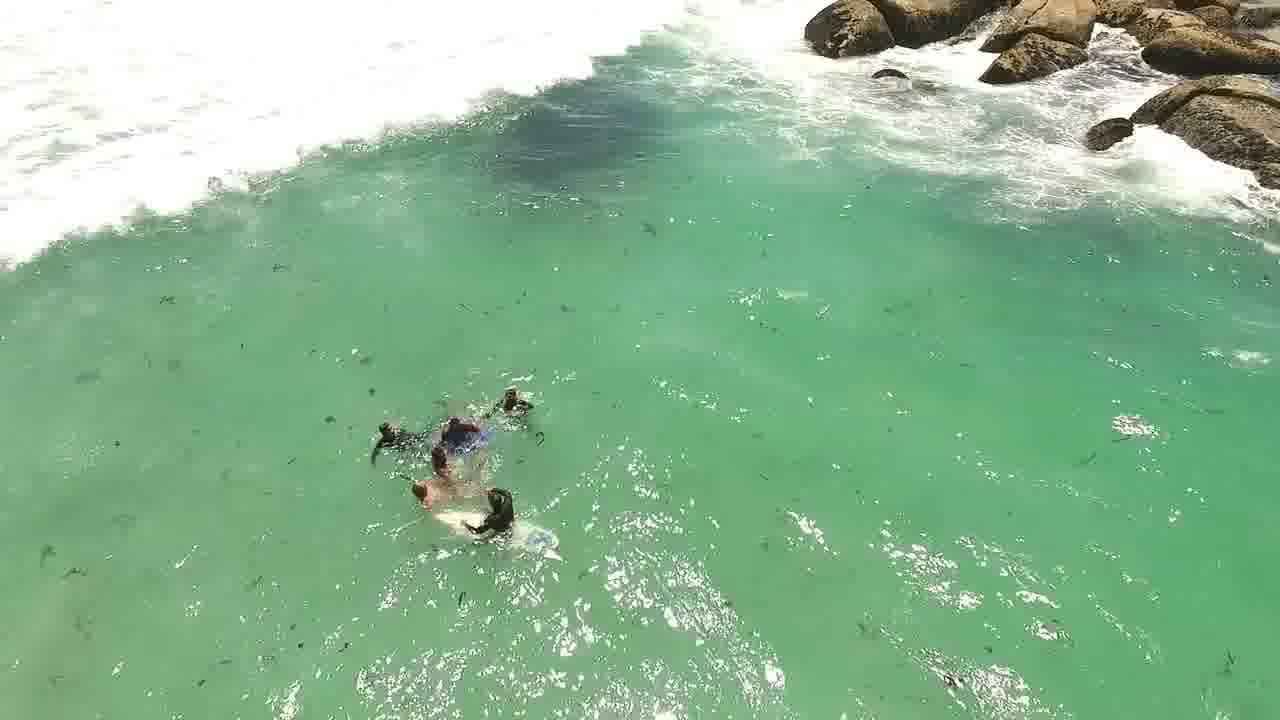swimmer: (491, 374, 540, 420), (435, 405, 482, 445), (476, 484, 516, 517), (365, 408, 395, 443), (422, 442, 445, 459), (404, 470, 419, 487)
